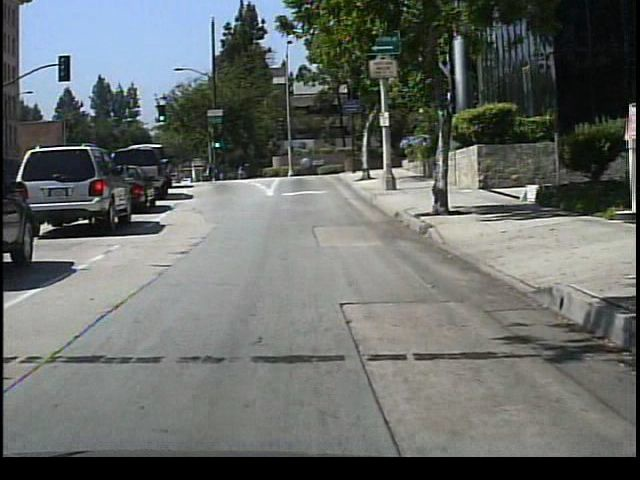person: (208, 158, 222, 182)
